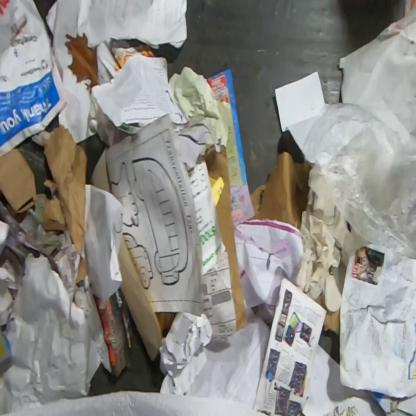cardboard: (200, 146, 247, 334), (117, 236, 179, 361), (250, 150, 314, 230), (0, 146, 38, 215), (314, 291, 340, 337), (89, 146, 113, 194)
soft_plastic: (302, 102, 415, 260)
